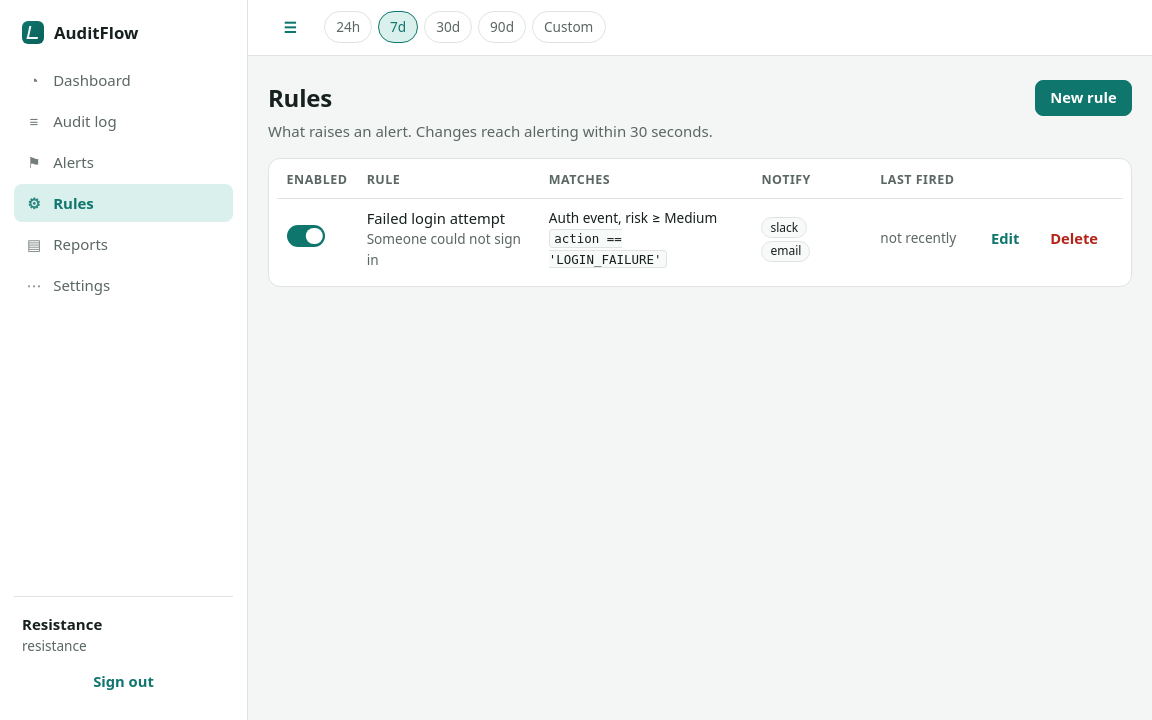
rules › a 401 on a toggle ends the session like a 401 on a page load
Click the checkbox named "Failed login attempt enabled". click: (306, 236)
box: 287,225 -> 325,247
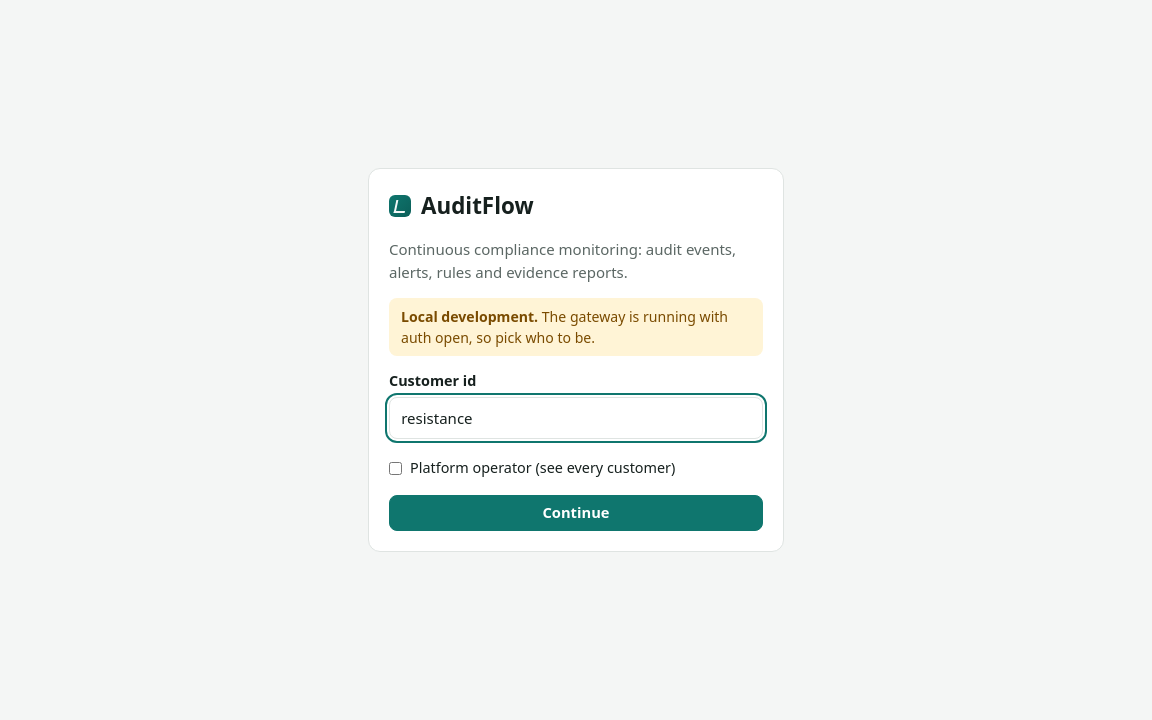
Now the field labelled "Customer id" is shown, box 389,397 -> 763,439
